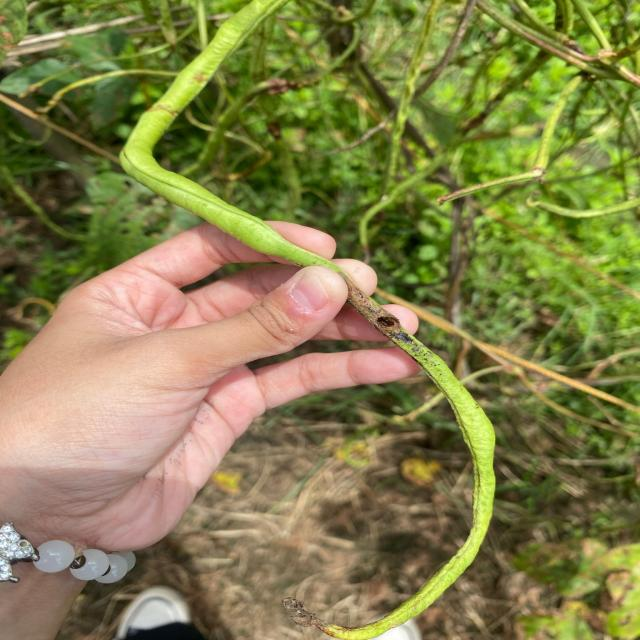sitaw-aphid-moderate: (120, 0, 332, 266), (339, 271, 495, 629)
